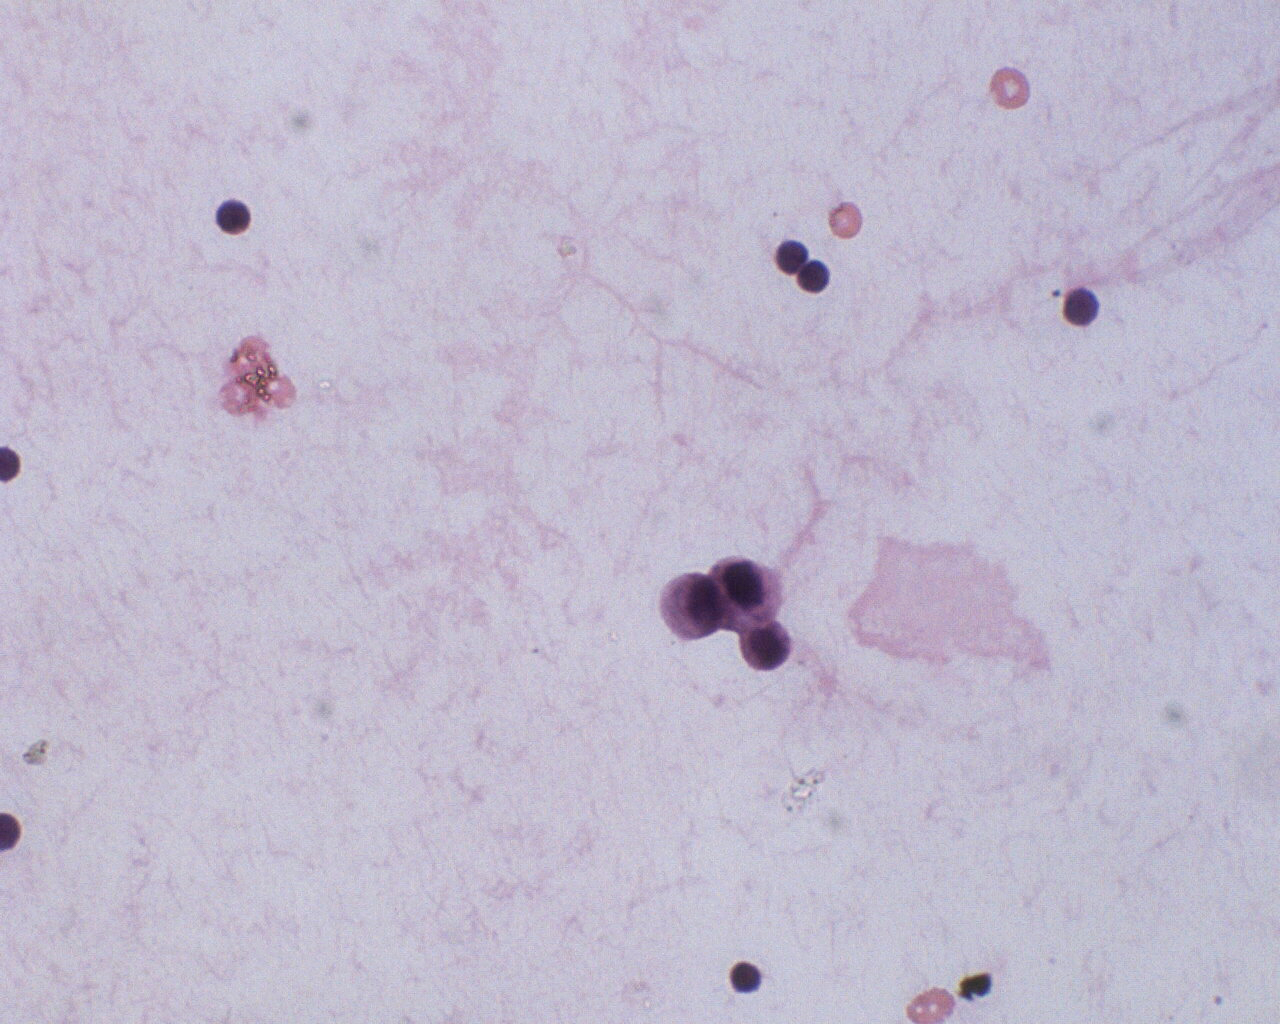ab: (712, 549, 785, 633), (655, 571, 727, 648), (741, 616, 791, 678)
lymph: (723, 959, 772, 999), (793, 259, 839, 299), (213, 194, 251, 236)
